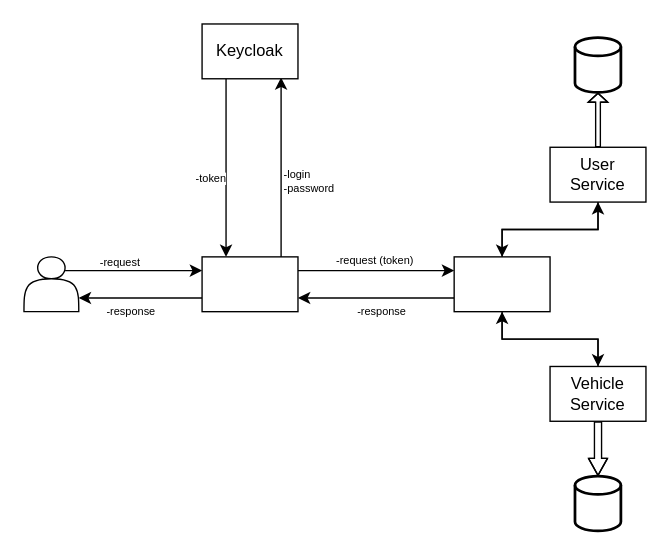
This 670x556 diagram has some shape labels left out. Each missing label, with the box of its shape:
Angular: (201, 256, 298, 312)
API Gateway: (453, 256, 550, 312)
